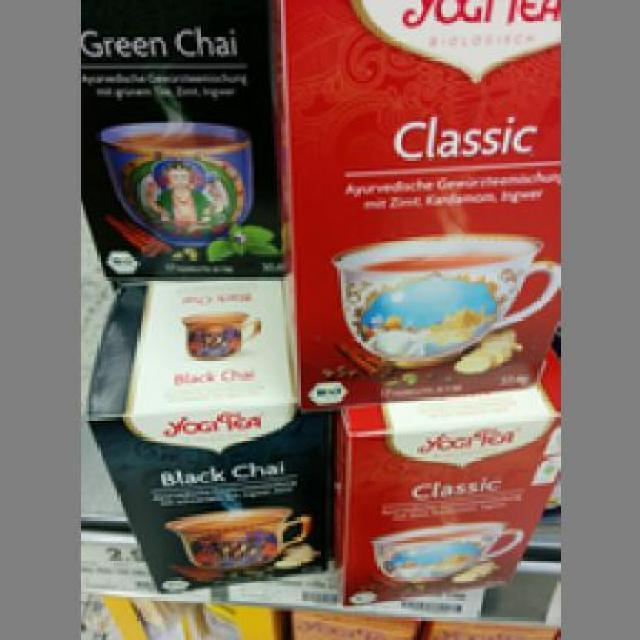Tea: (272, 0, 558, 409), (85, 280, 328, 594), (334, 383, 557, 606)
